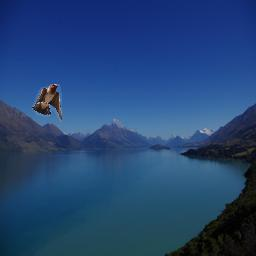Swallow: (32, 84, 62, 122)
